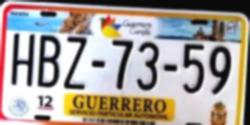License_Plate: (0, 4, 244, 125)
